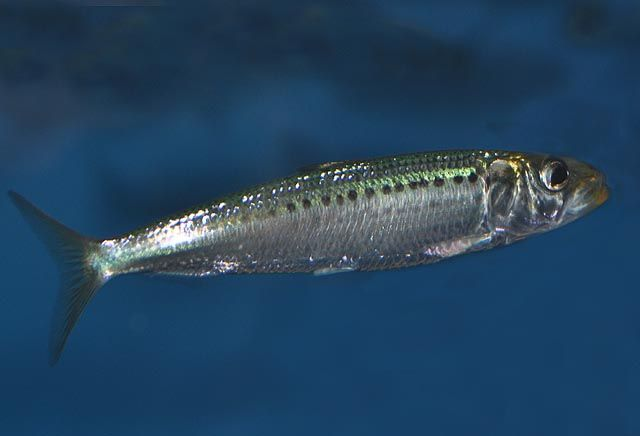fish: (8, 147, 613, 371)
